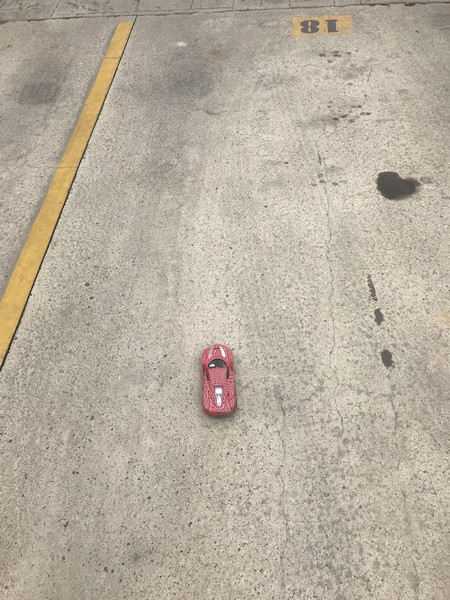RC: (197, 341, 243, 420)
